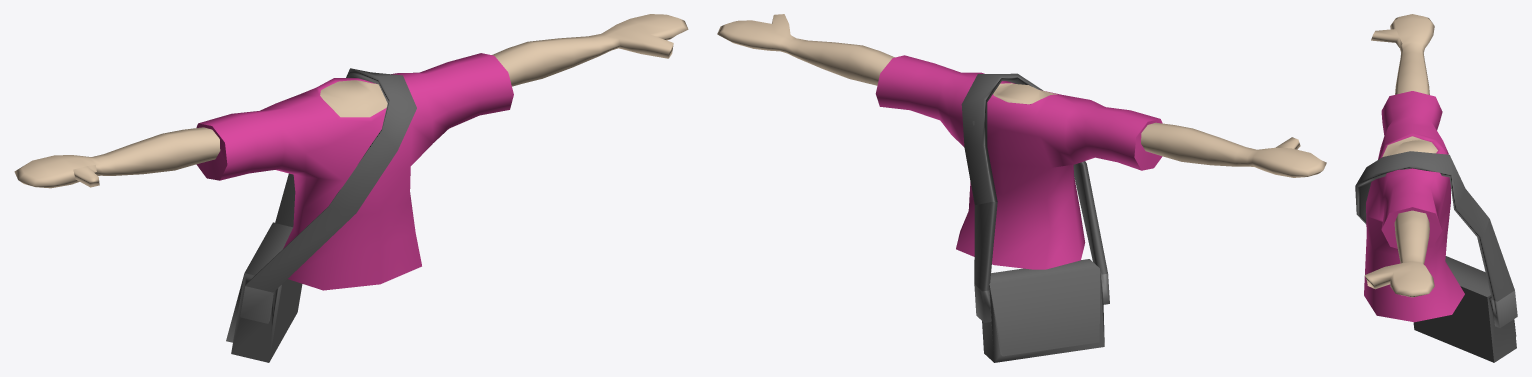
File: Somebody once told me.fbx
3 renders of one model, left to right at view 1: azimuth 30°, elevation 25°; view 2: azimuth 150°, elevation 25°; view 3: azimuth 270°, elevation 25°, orthographic. The views are drawn at different scales.
Parts seen in each view (by area): view 1: pCube21; view 2: pCube21; view 3: pCube21.
Part boxes in pixels (box(x1,y1,x2,y2)): pCube21: box(14, 14, 688, 362); pCube21: box(717, 14, 1326, 362); pCube21: box(1355, 14, 1517, 362).
Bounding box in the file's own units: 6.45 × 2.43 × 1.6.
